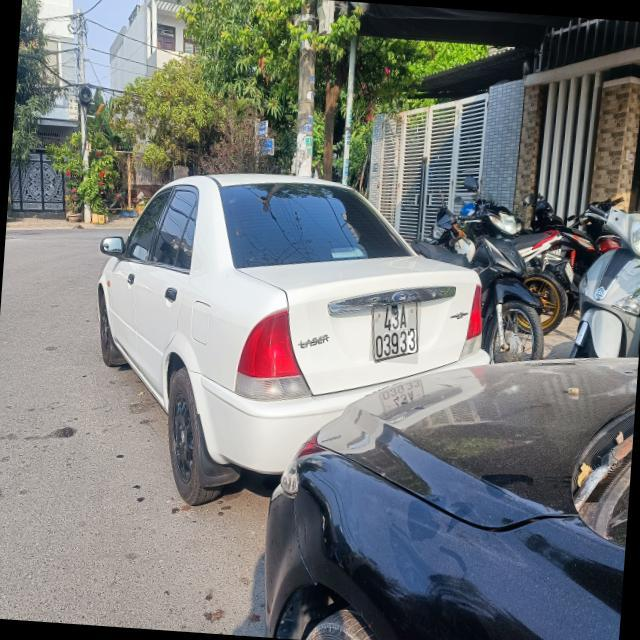car: (92, 170, 516, 518)
motorcycle: (462, 211, 563, 372)
plate: (360, 297, 428, 367)
